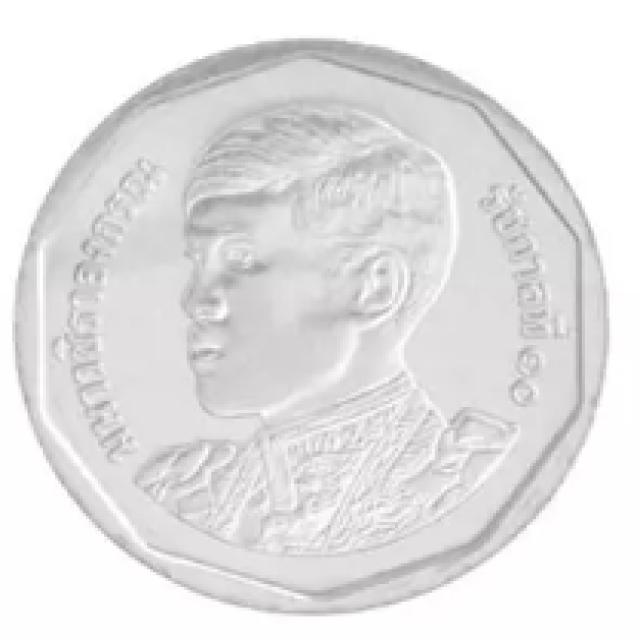5 Bath: (4, 7, 625, 638)
